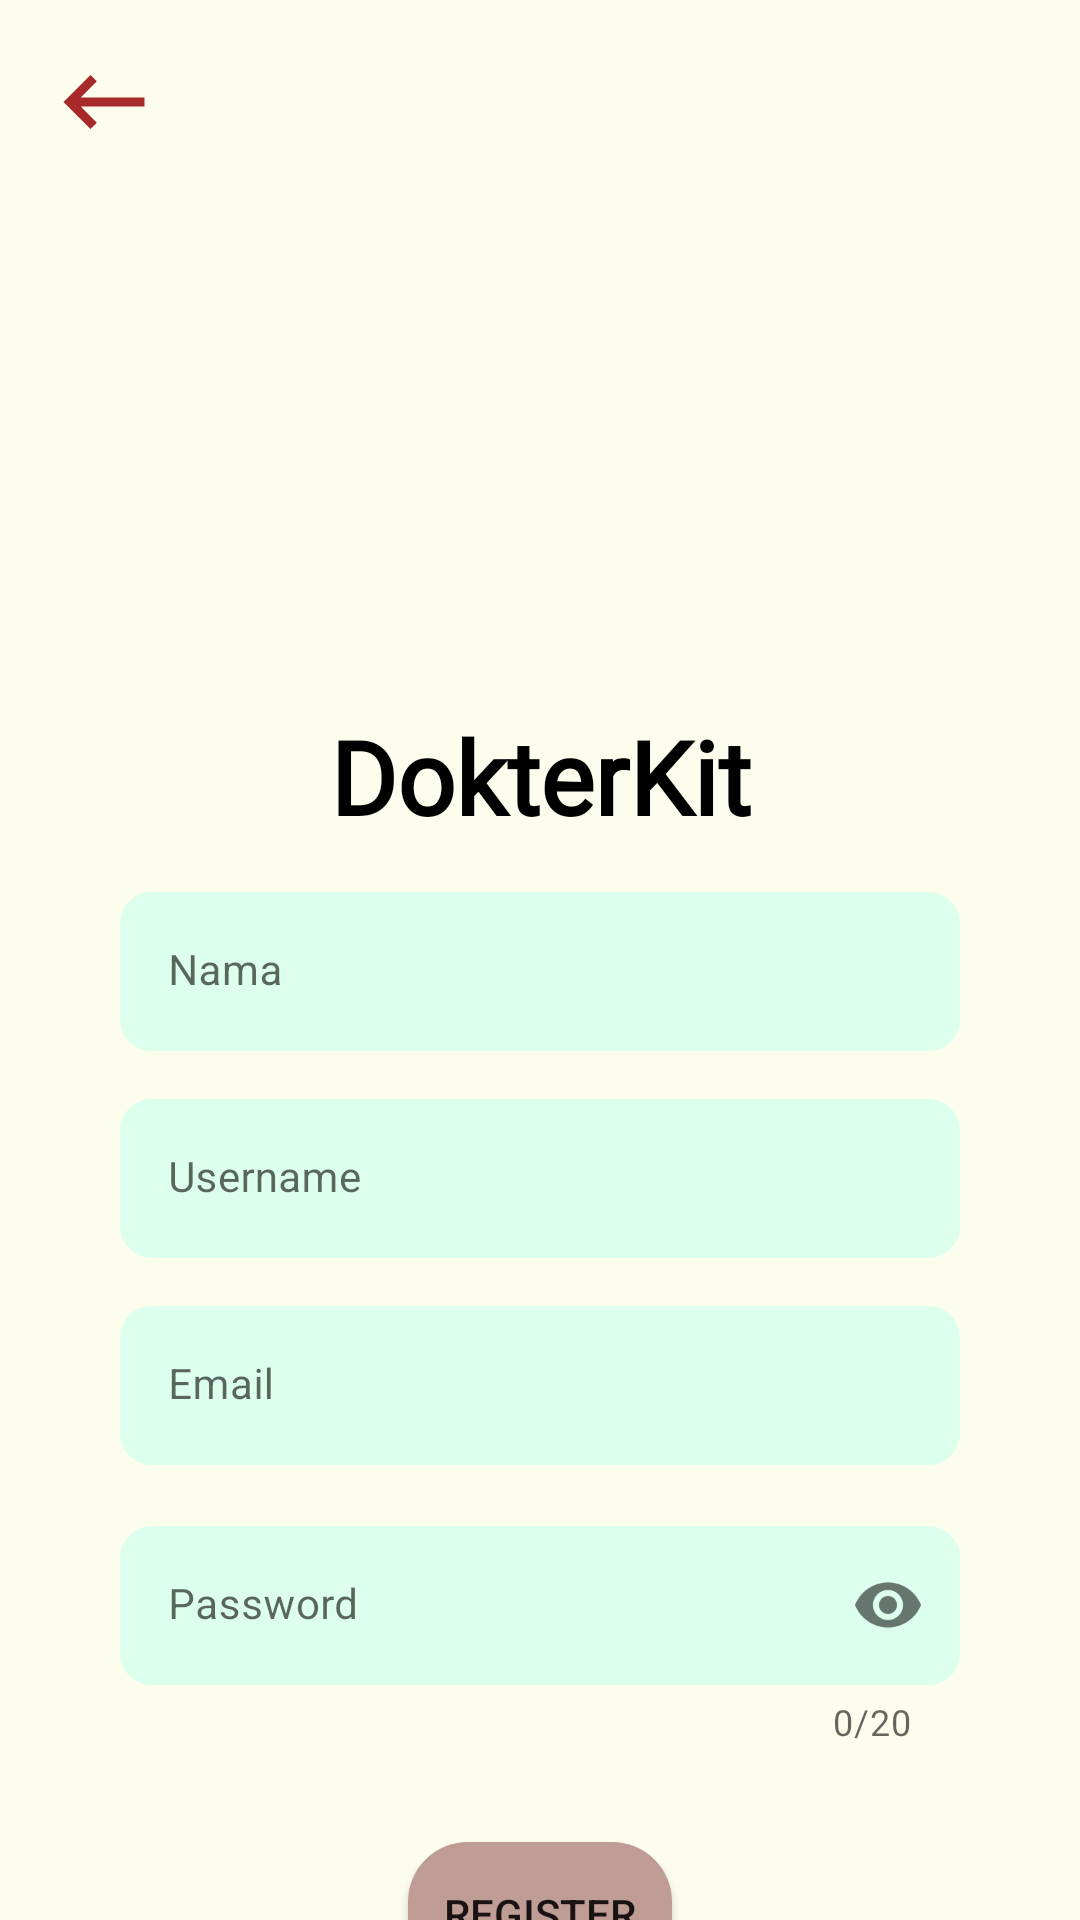

Where to tap for icons on this 1080 x 1920 app screen, as [x,y]:
arrow back: [104,102]
